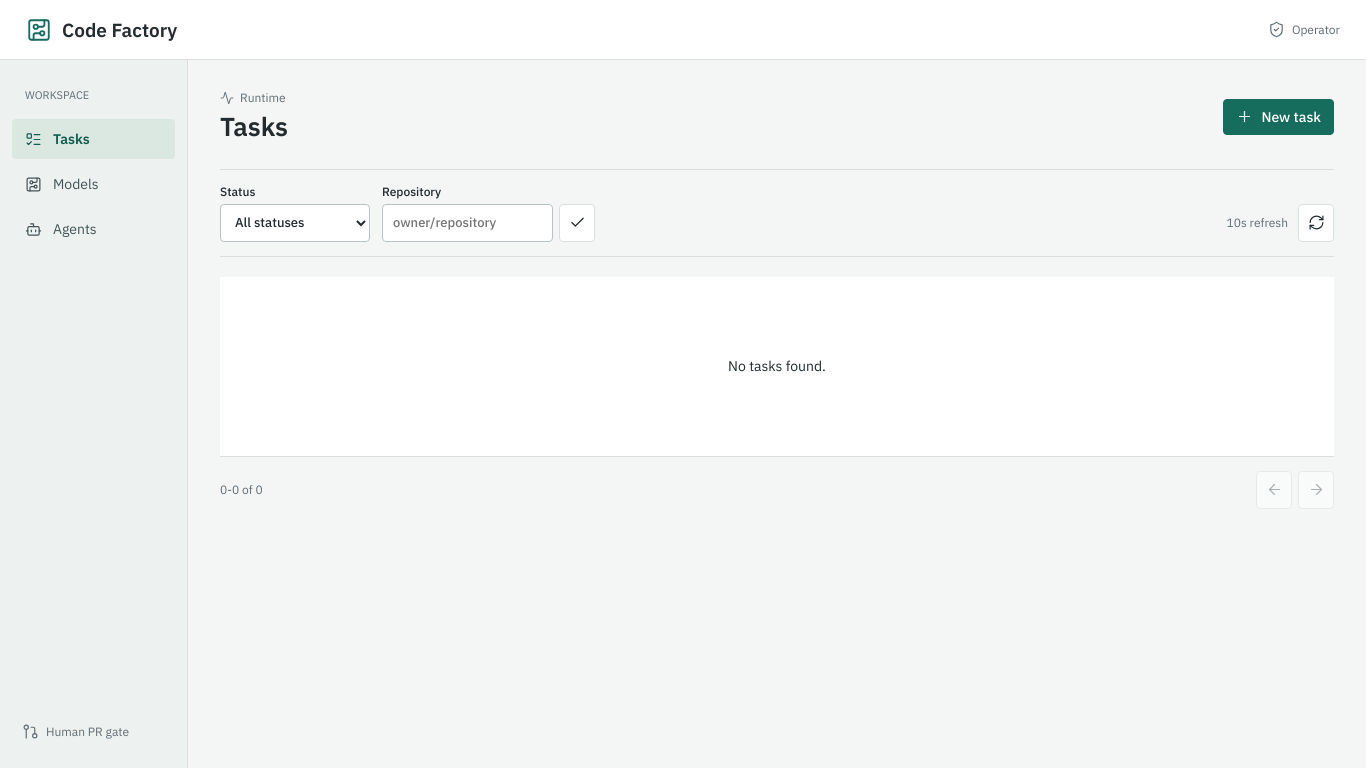
Test case: has honest empty and read-only model states
The image size is (1366, 768).
Expected: the text "No tasks found." is shown, [220,277,1334,457]
What coordinates should you click on to do the following:
click the link "Models"
I would click on:
 (62, 184)
Its box is [25,175,99,193].
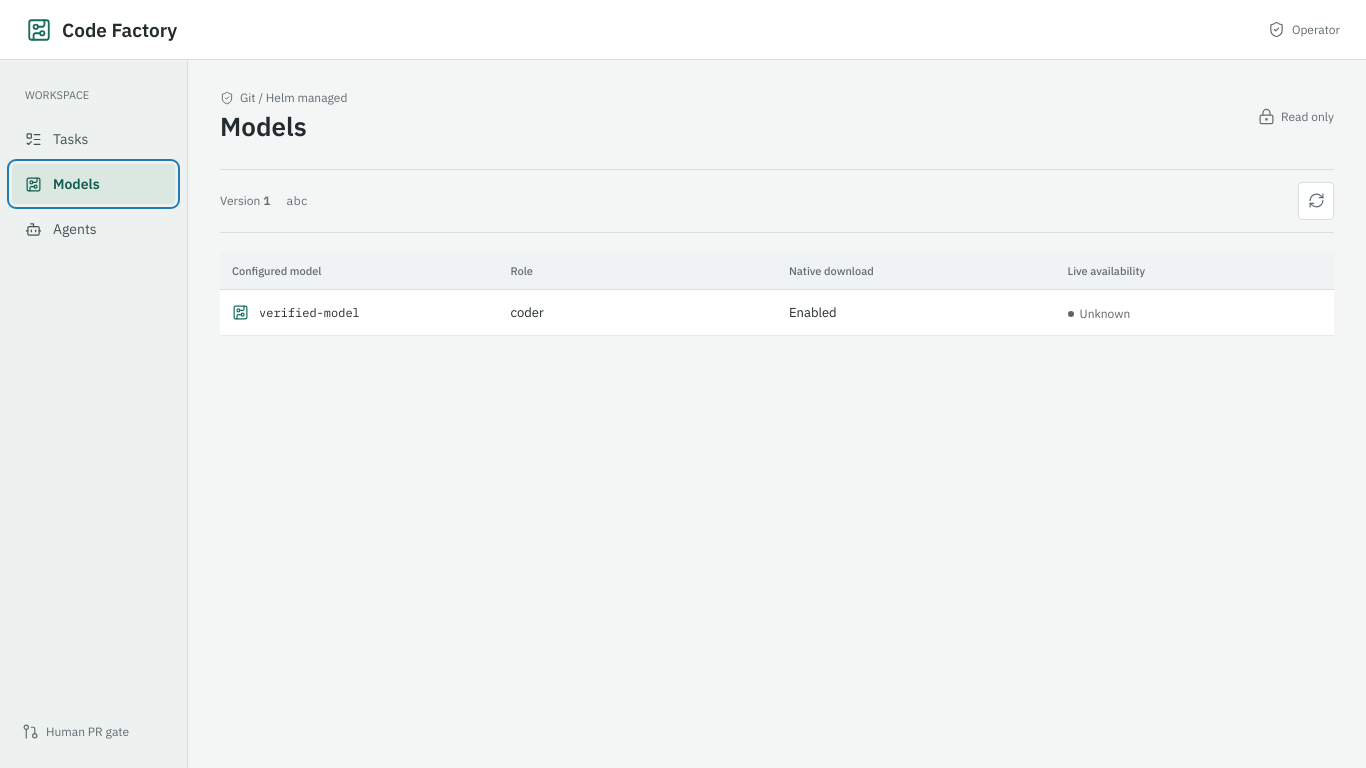
Result: the text "verified-model" is shown at [259,305,360,320]
Result: the text "unknown" is shown at [1068,306,1130,321]
Result: the text "Read only" is shown at [1258,108,1334,125]
